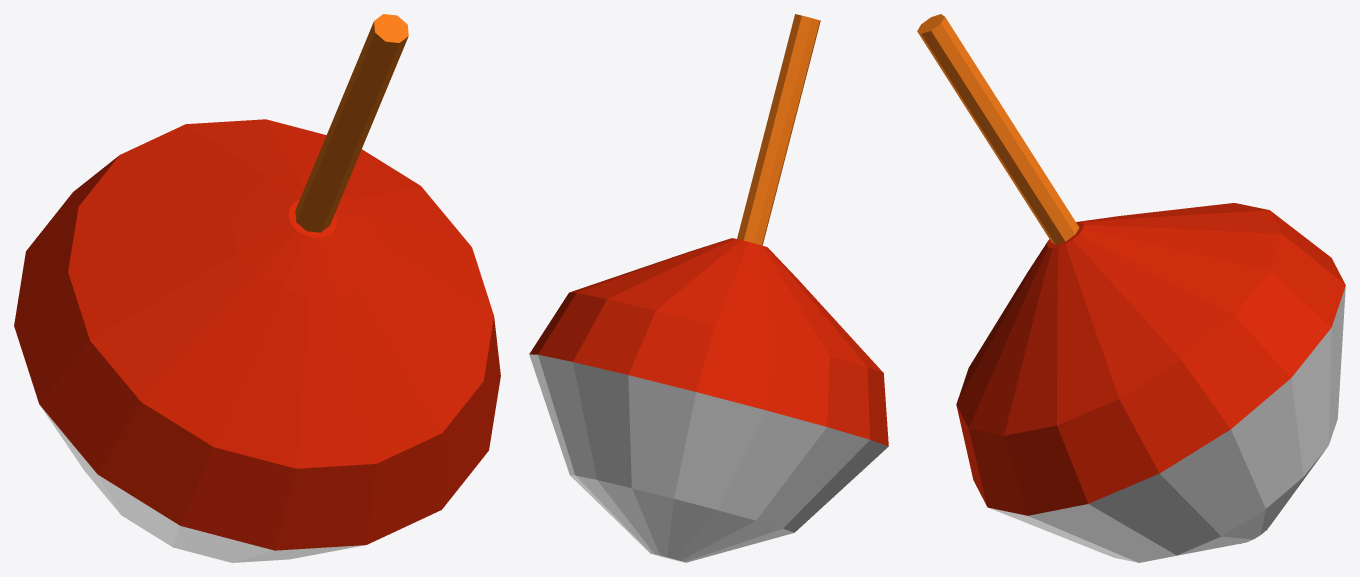
Rendered from Prop_WZ_FishingFloat_Dip.glb.
3 views of the same model, side by side, from view 1: azimuth 30°, elevation 25°; view 2: azimuth 150°, elevation 25°; view 3: azimuth 270°, elevation 25° (orthographic). The views are drawn at different scales.
Parts seen in each view (by area): view 1: Prop_WZ_FishingFloat_Dip; view 2: Prop_WZ_FishingFloat_Dip; view 3: Prop_WZ_FishingFloat_Dip.
Boxes of the visible parts, x1=… form: Prop_WZ_FishingFloat_Dip: x1=14, y1=14, x2=500, y2=562; Prop_WZ_FishingFloat_Dip: x1=529, y1=14, x2=888, y2=562; Prop_WZ_FishingFloat_Dip: x1=917, y1=14, x2=1345, y2=562.
Size of what is drawn, in the model's own units: 0.08 by 0.1075 by 0.0797.
